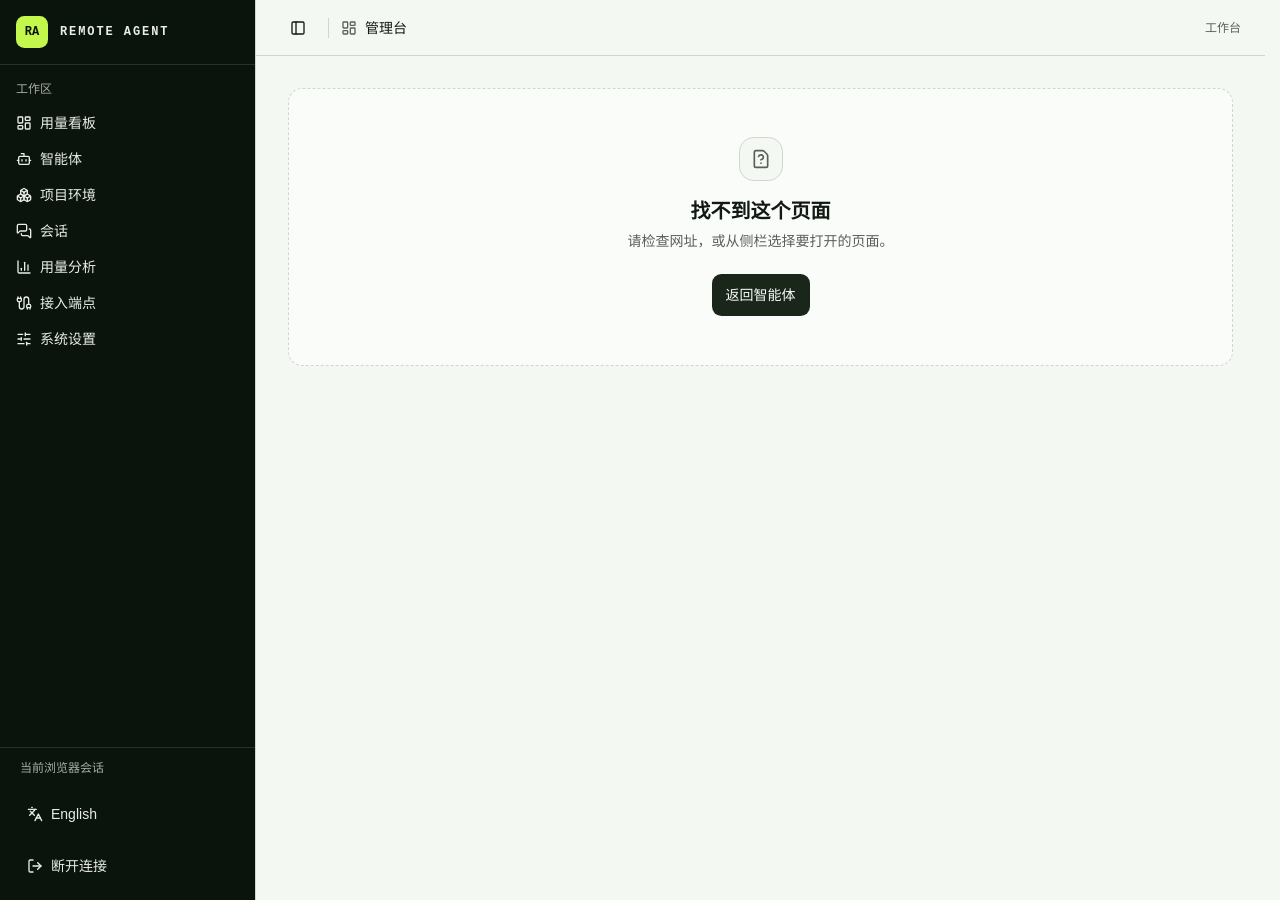
shows an unknown URL with a recovery link instead of silently redirecting
This screenshot has width=1280, height=900.
Check: the heading "找不到这个页面" is shown, box [690, 197, 830, 225]
Click the link "返回智能体".
click(760, 295)  # box [710, 273, 810, 317]
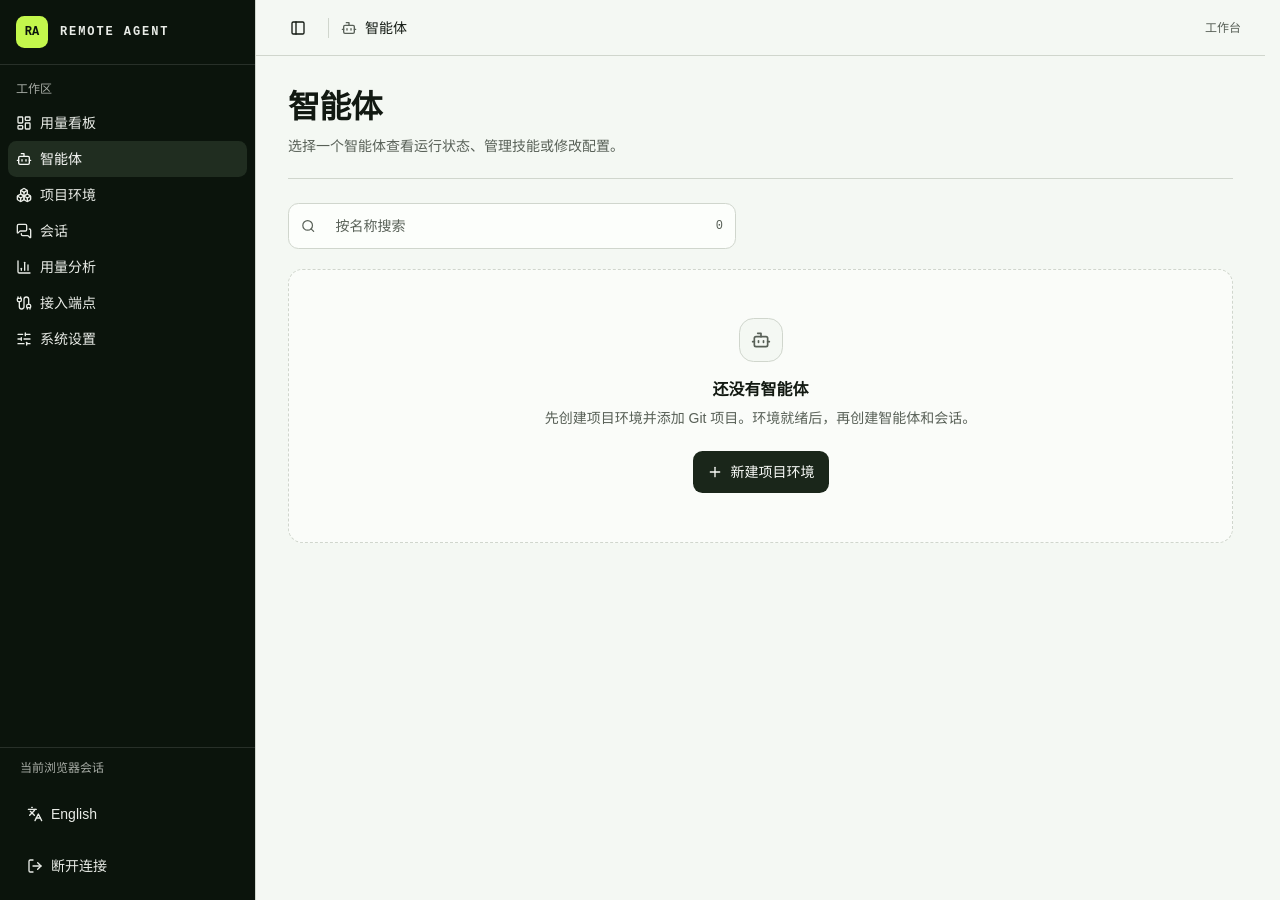
Check: the heading "智能体" is shown, box [288, 89, 382, 125]
